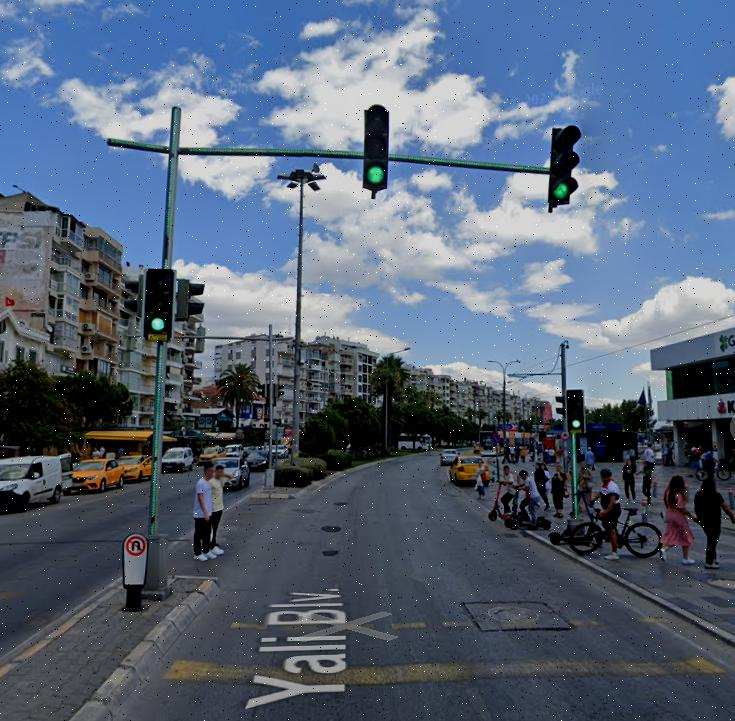greenlight: (145, 268, 172, 343), (552, 123, 574, 210), (366, 107, 389, 189), (567, 389, 583, 434)
